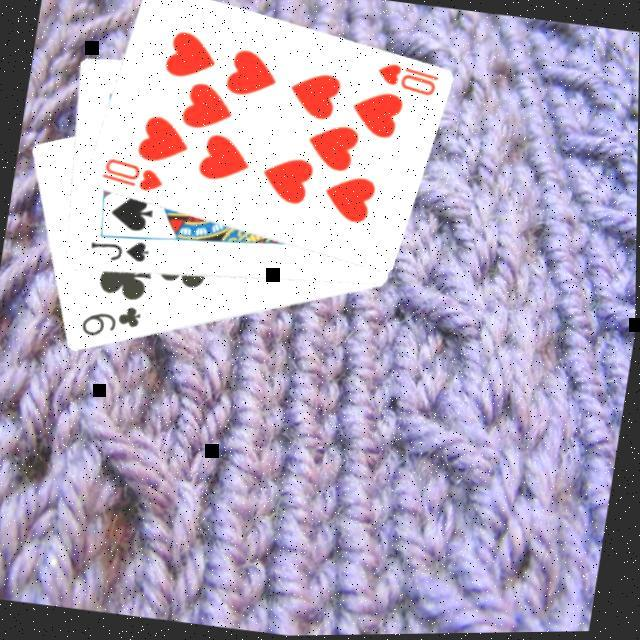10H: (96, 153, 168, 197), (370, 57, 442, 101)
9C: (76, 296, 146, 347)
JS: (85, 232, 152, 270)
